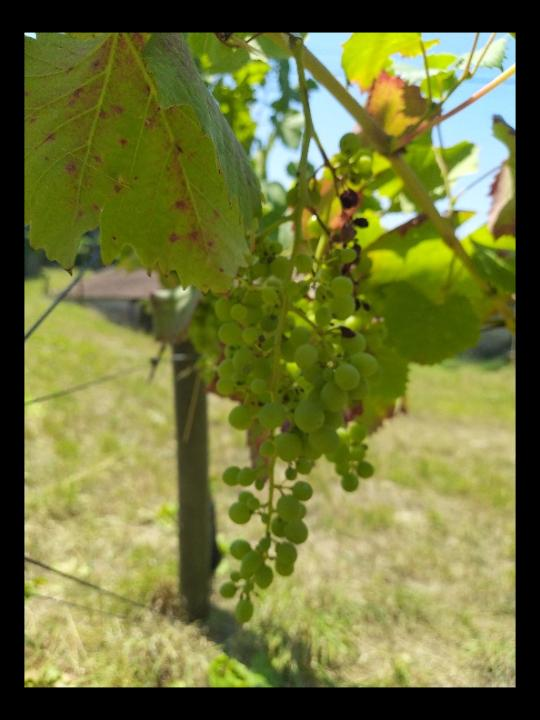grape: (209, 246, 383, 626)
